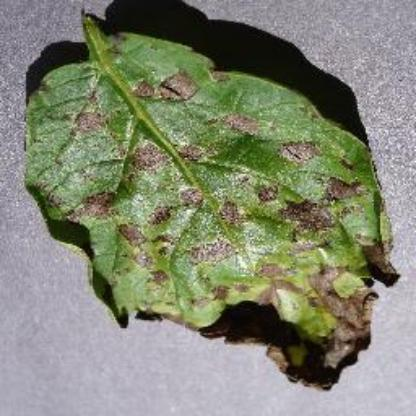Early-Blight: (22, 2, 402, 390)
